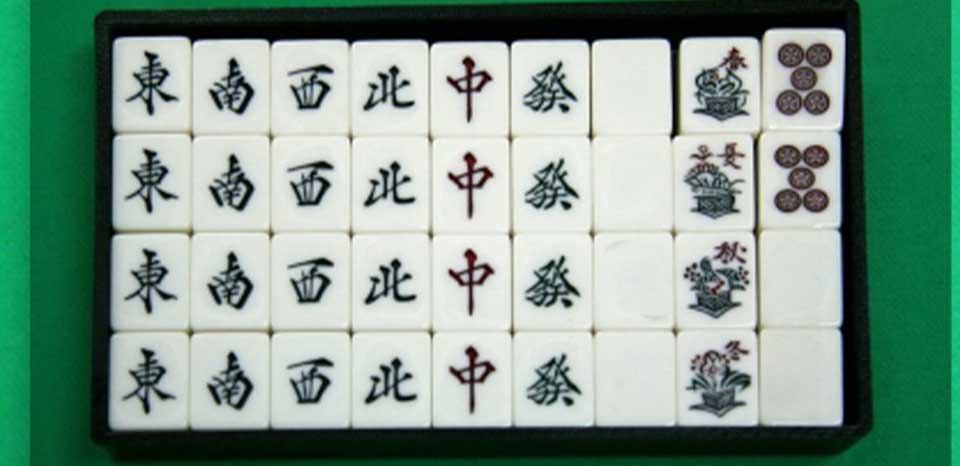honour_1: (115, 37, 190, 131)
honour_2: (193, 38, 270, 135)
honour_3: (274, 40, 350, 137)
honour_4: (347, 42, 432, 140)
honour_5: (591, 40, 675, 135)
honour_6: (513, 42, 590, 137)
honour_7: (429, 40, 508, 135)
pin_5: (768, 35, 843, 124)
